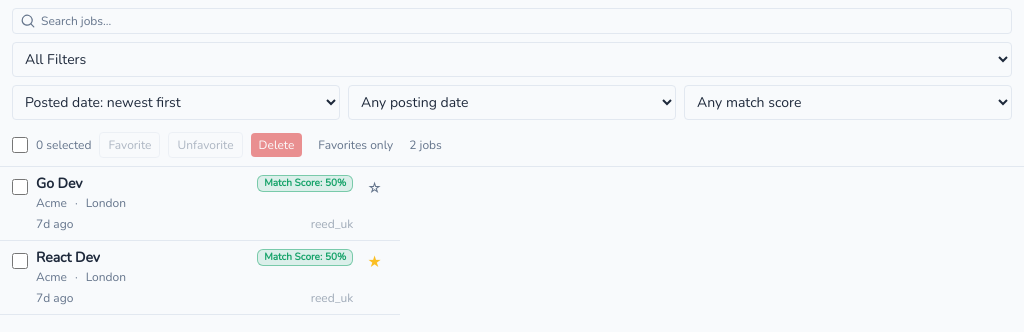
Scenario: JobList › shows only favorites when favorites-only mode is enabled
This screenshot has width=1024, height=332.
What coordinates should you click on to do the following:
click the button with aria-label "show only favorite jobs"
I would click on:
 (356, 145)
Its box is [310,133,401,157].
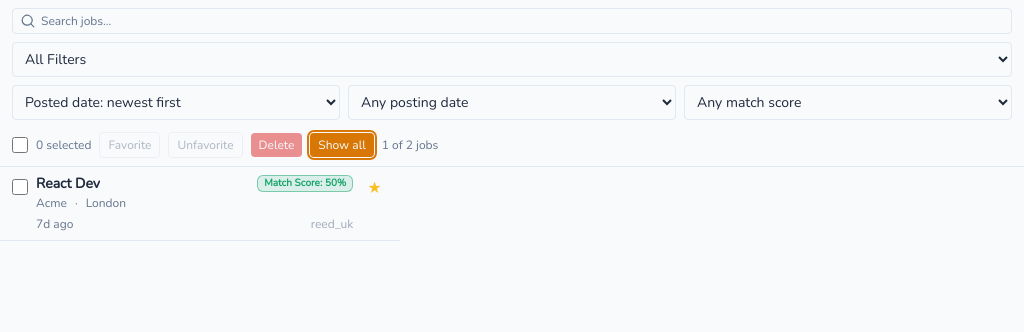
Check: the text "React Dev" is shown, box [36,175,100,192]
Check: the button "Go Dev" is gone
